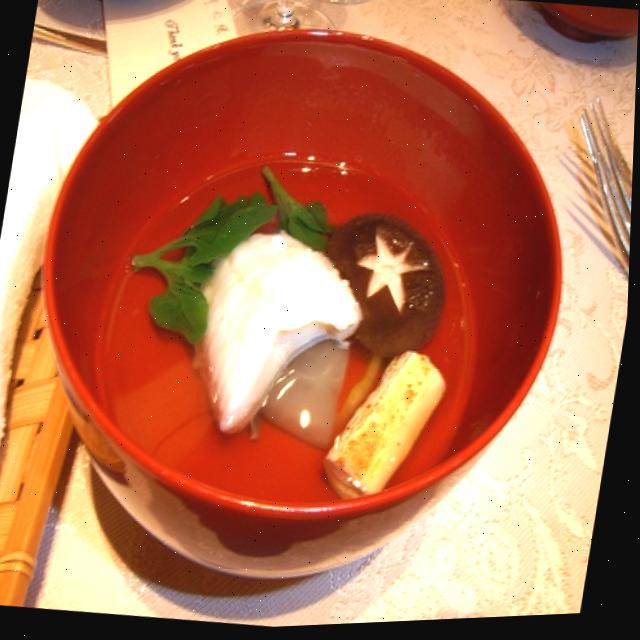汤锅炖物: (17, 0, 609, 589)
